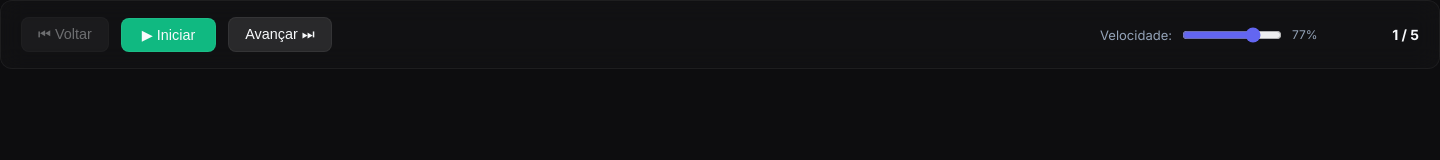
Test case: PlayerControls › advances step when Next button is clicked
Click the button "Avançar ⏭".
click(280, 34)  # box [228, 17, 332, 52]
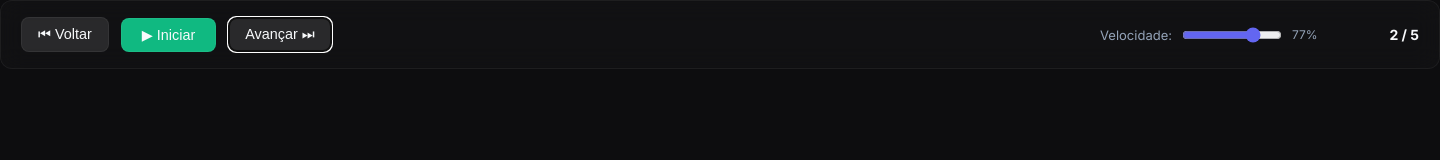
Expected: the text "2 / 5" is shown, [1389, 26, 1419, 43]
